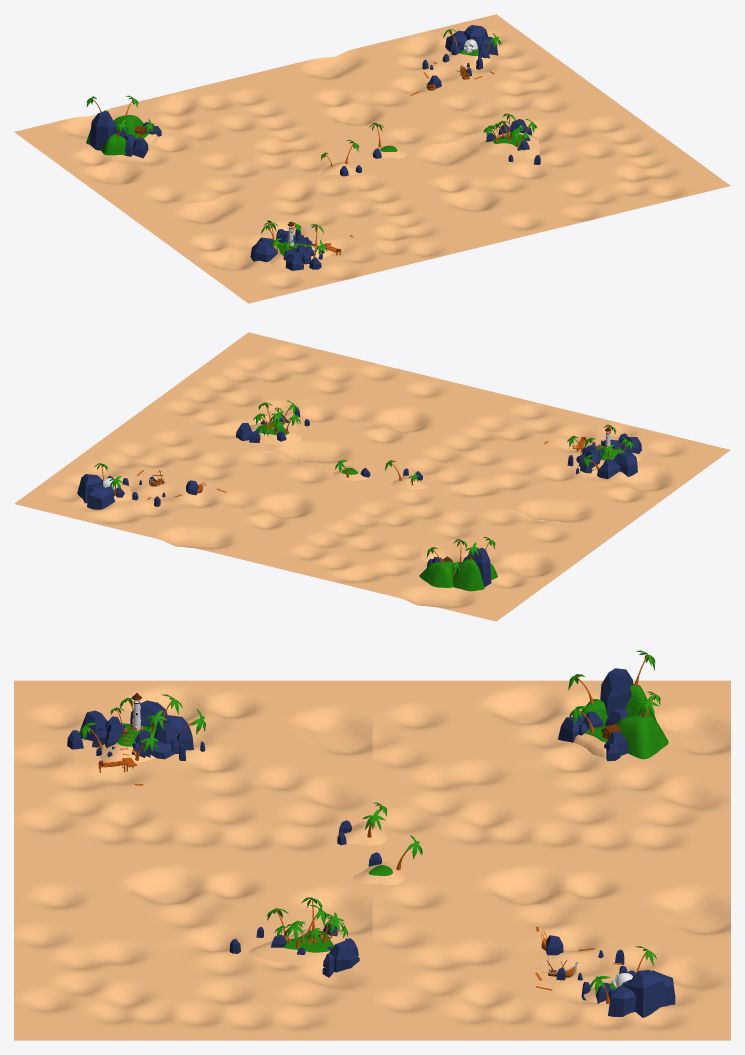
File: ENVIRONMENT.FBX
3 views of the same model, one above another, from view 1: azimuth 30°, elevation 25°; view 2: azimuth 150°, elevation 25°; view 3: azimuth 270°, elevation 25° (orthographic). The views are drawn at different scales.
Parts seen in each view (by area): view 1: Plane001, Plane002, Plane004, Plane003, Object001, Box175; view 2: Plane001, Plane002, Plane004, Plane003, GeoSphere007, GeoSphere006, Object001, Box114; view 3: Plane001, Plane002, Plane004, Plane003, GeoSphere006, Object001, Box116, Box175, GeoSphere009, GeoSphere005, Box115, island1_sand.
Boxes of the visible parts, box(x1,y1,x2,y2) form: Plane001: box(373, 100, 730, 244); Plane002: box(255, 14, 613, 158); Plane004: box(14, 73, 371, 217); Plane003: box(131, 159, 489, 303); Object001: box(479, 132, 539, 158); Box175: box(89, 111, 118, 150); Plane001: box(131, 332, 489, 476); Plane002: box(14, 418, 371, 562); Plane004: box(255, 477, 613, 621); Plane003: box(373, 391, 730, 535); GeoSphere007: box(452, 559, 484, 591); GeoSphere006: box(419, 561, 456, 587); Object001: box(248, 417, 301, 445); Box114: box(87, 485, 115, 509); Plane001: box(14, 860, 372, 1040); Plane002: box(372, 860, 730, 1040); Plane004: box(372, 680, 730, 860); Plane003: box(14, 680, 372, 860); GeoSphere006: box(617, 715, 668, 759); Object001: box(249, 928, 345, 968); Box116: box(625, 969, 668, 1017); Box175: box(600, 668, 633, 715); GeoSphere009: box(353, 861, 404, 885); GeoSphere005: box(335, 821, 387, 845); Box115: box(608, 985, 636, 1016); island1_sand: box(97, 723, 155, 767).
Size of the model in its own units: 264098 by 34835 by 222415.
